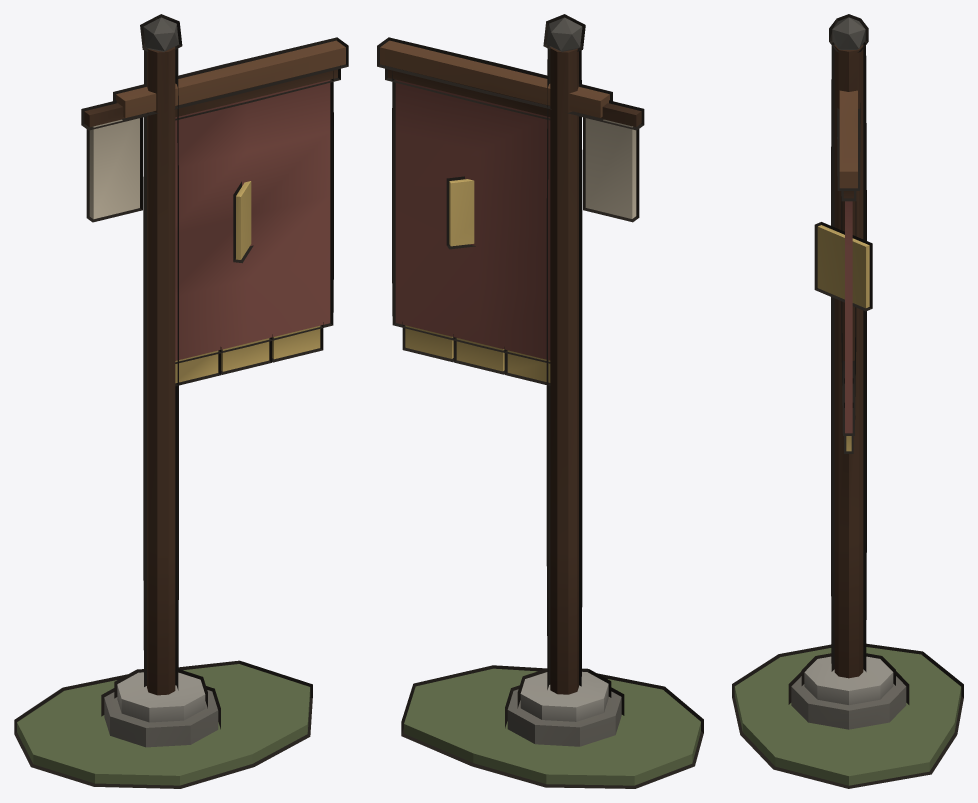
Rendered from banniere.glb.
The picture shows the model from 3 angles, left to right: view 1: azimuth 30°, elevation 25°; view 2: azimuth 150°, elevation 25°; view 3: azimuth 270°, elevation 25°; orthographic projection. The views are drawn at different scales.
Visible parts, largest first — view 1: banniere, banniere_outline; view 2: banniere, banniere_outline; view 3: banniere, banniere_outline.
Part boxes in pixels (x1,y1,x2,y2): banniere: (17, 17, 345, 785); banniere_outline: (14, 14, 348, 788); banniere: (380, 17, 700, 785); banniere_outline: (377, 14, 703, 788); banniere: (734, 17, 961, 785); banniere_outline: (732, 14, 963, 788).
Size of the model in its own units: 1.34 by 2.97 by 0.8871.
